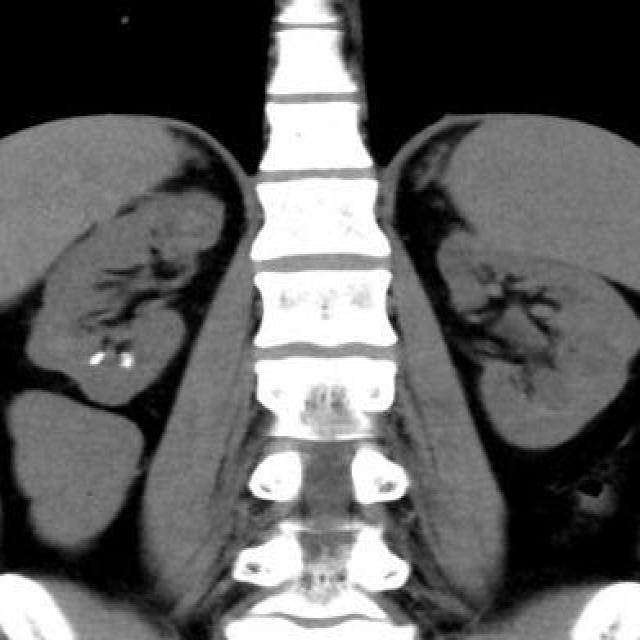Tas_Var: (88, 352, 108, 366), (120, 359, 134, 369), (120, 351, 134, 359)
